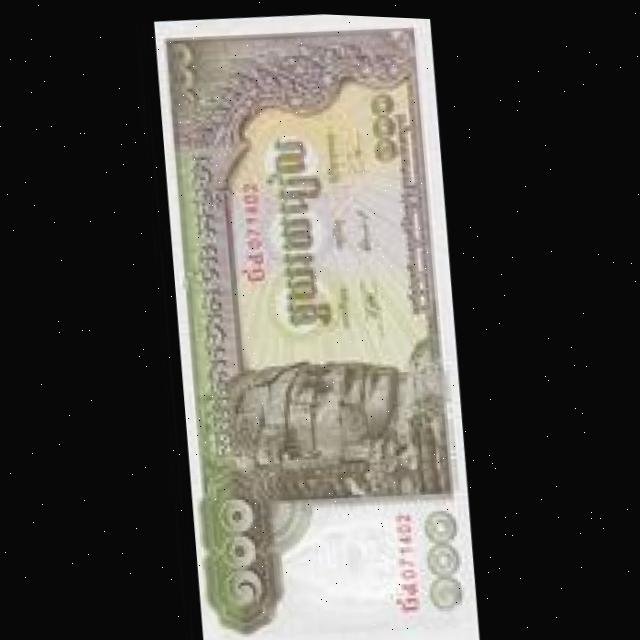banknote: (149, 5, 485, 640)
